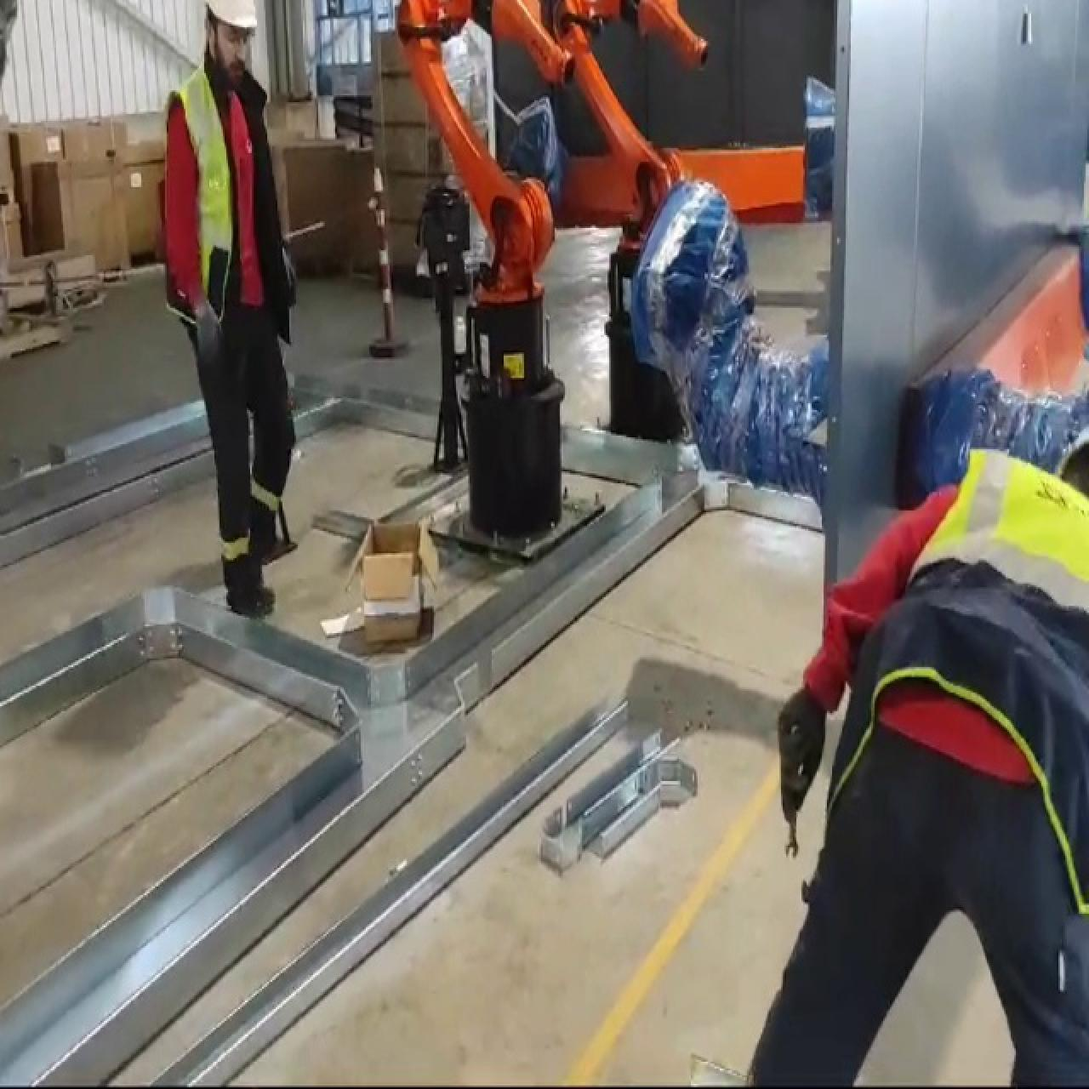Person: (757, 428, 1089, 1089), (130, 0, 327, 624)
Safety_Vest: (825, 440, 1089, 921), (149, 81, 305, 326)
